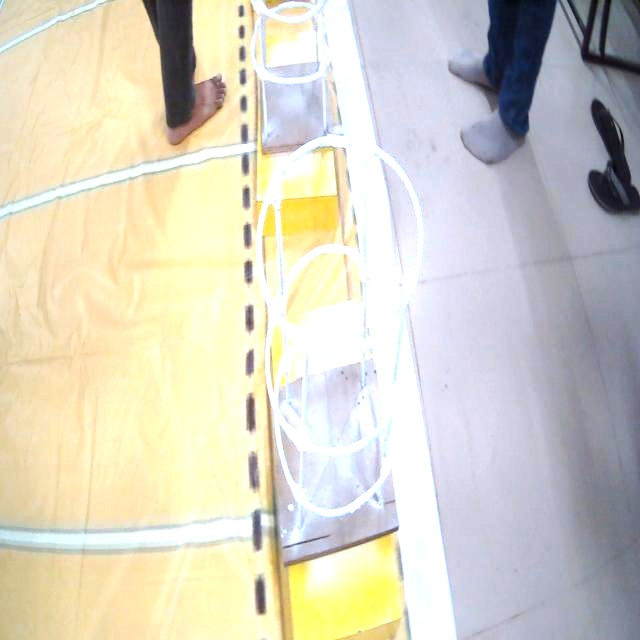silo: (246, 120, 431, 550)
